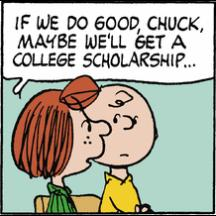charlie: (82, 82, 160, 214)
